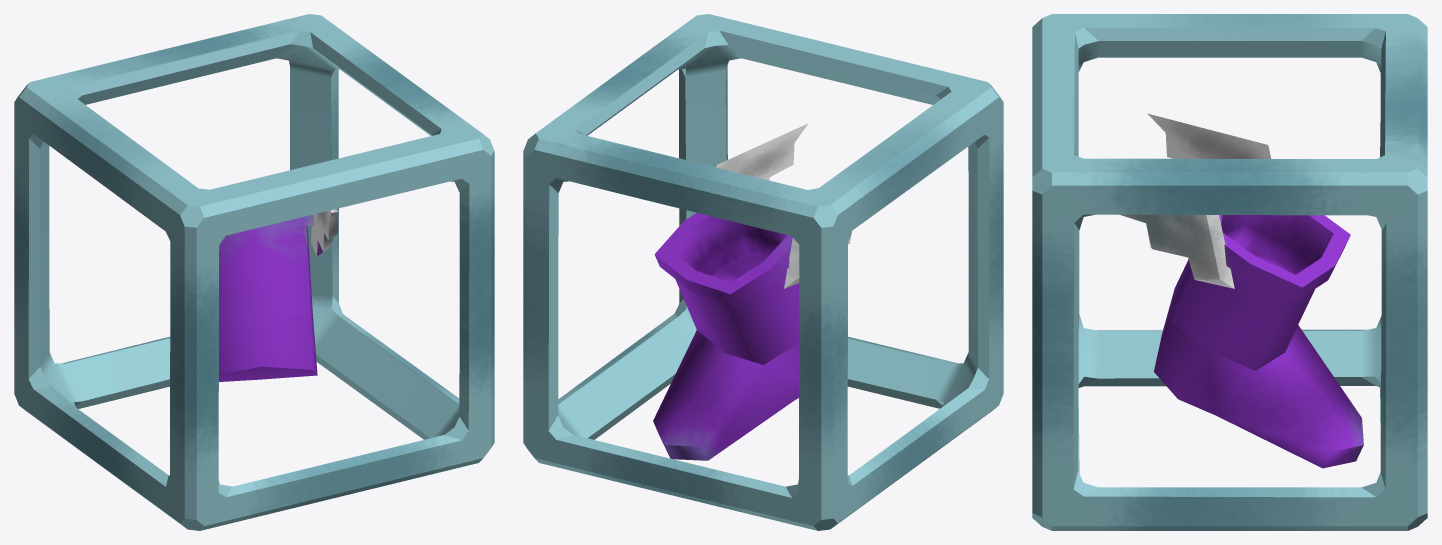
Rendered from dash.fbx.
3 renders of one model, left to right at view 1: azimuth 30°, elevation 25°; view 2: azimuth 150°, elevation 25°; view 3: azimuth 270°, elevation 25°, orthographic. The views are drawn at different scales.
Visible parts, largest first — view 1: pCube18; view 2: pCube18; view 3: pCube18.
Boxes of the visible parts, left/top/right/bottom form: pCube18: left=14, top=14, right=494, bottom=530; pCube18: left=523, top=14, right=1003, bottom=530; pCube18: left=1032, top=14, right=1427, bottom=530.
Bounding box in the file's own units: 2.97 × 2.97 × 2.97.
Materials: 1 (1 with a texture image).
